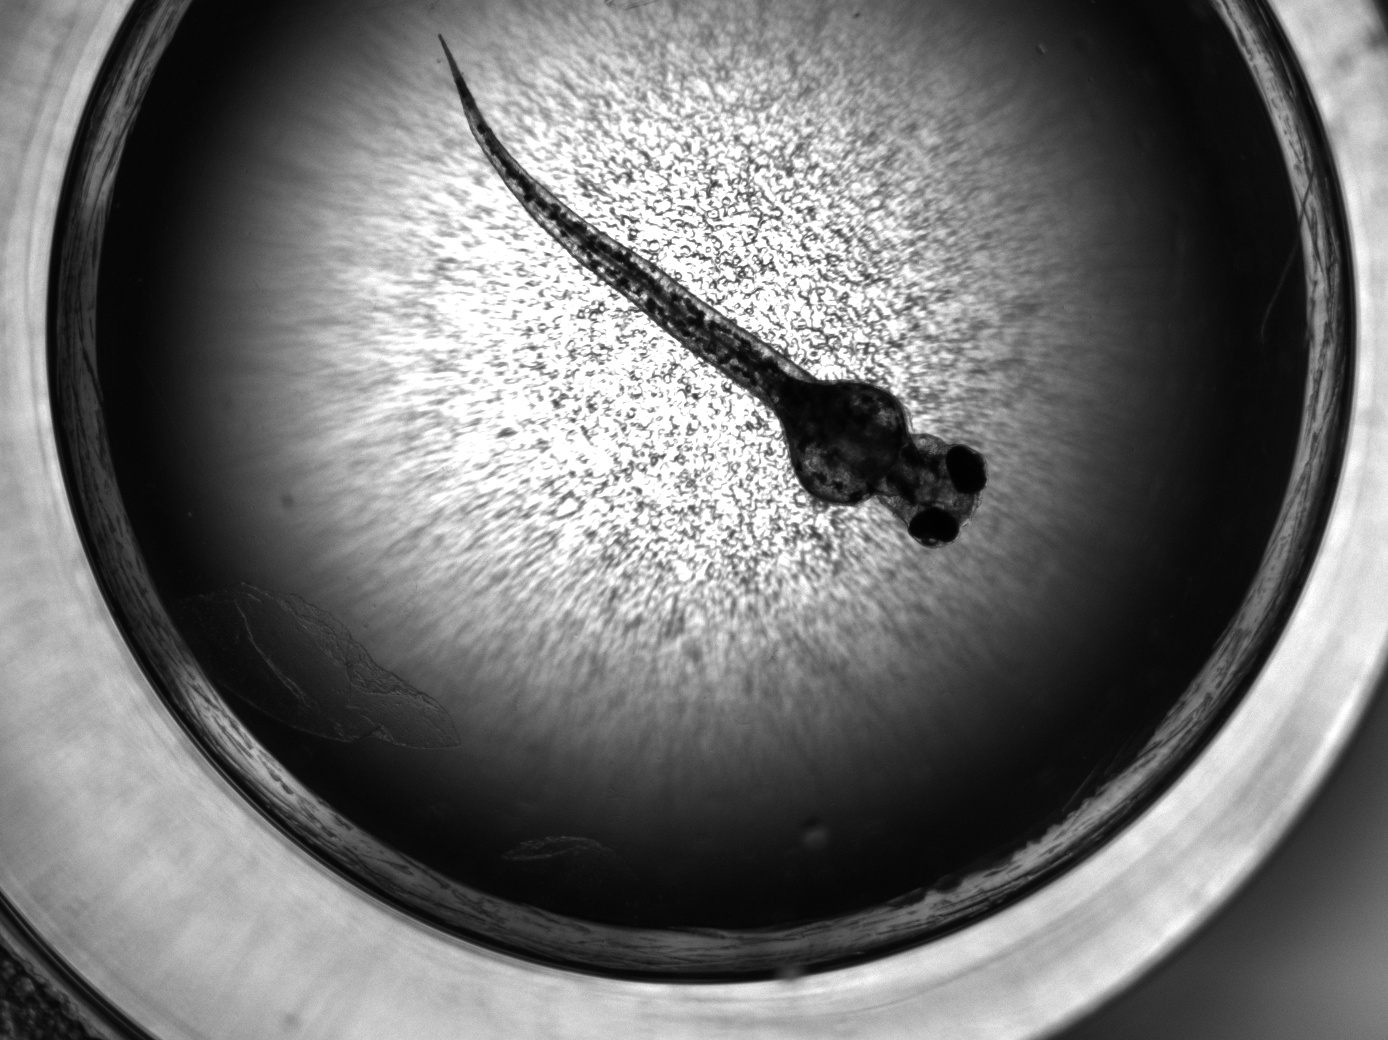debris: (197, 580, 464, 752)
embryo: (436, 33, 988, 549)
eye: (907, 508, 961, 549), (946, 445, 988, 495)
yolksac: (770, 368, 904, 504)
